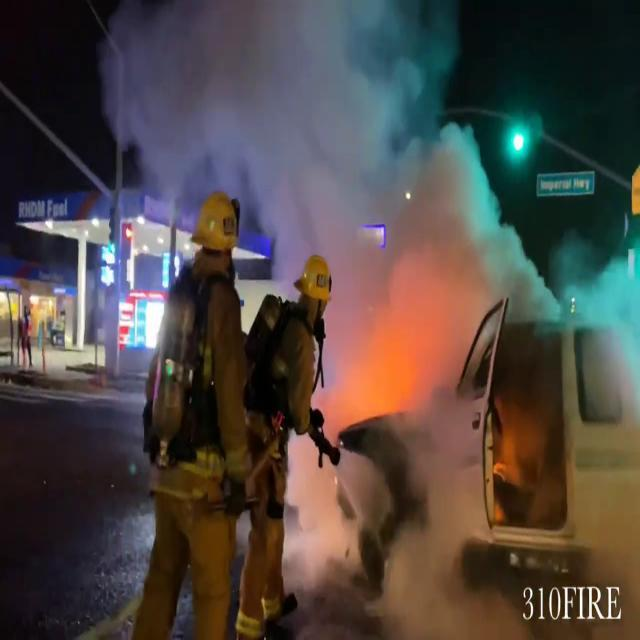Smoke: (96, 0, 500, 309)
